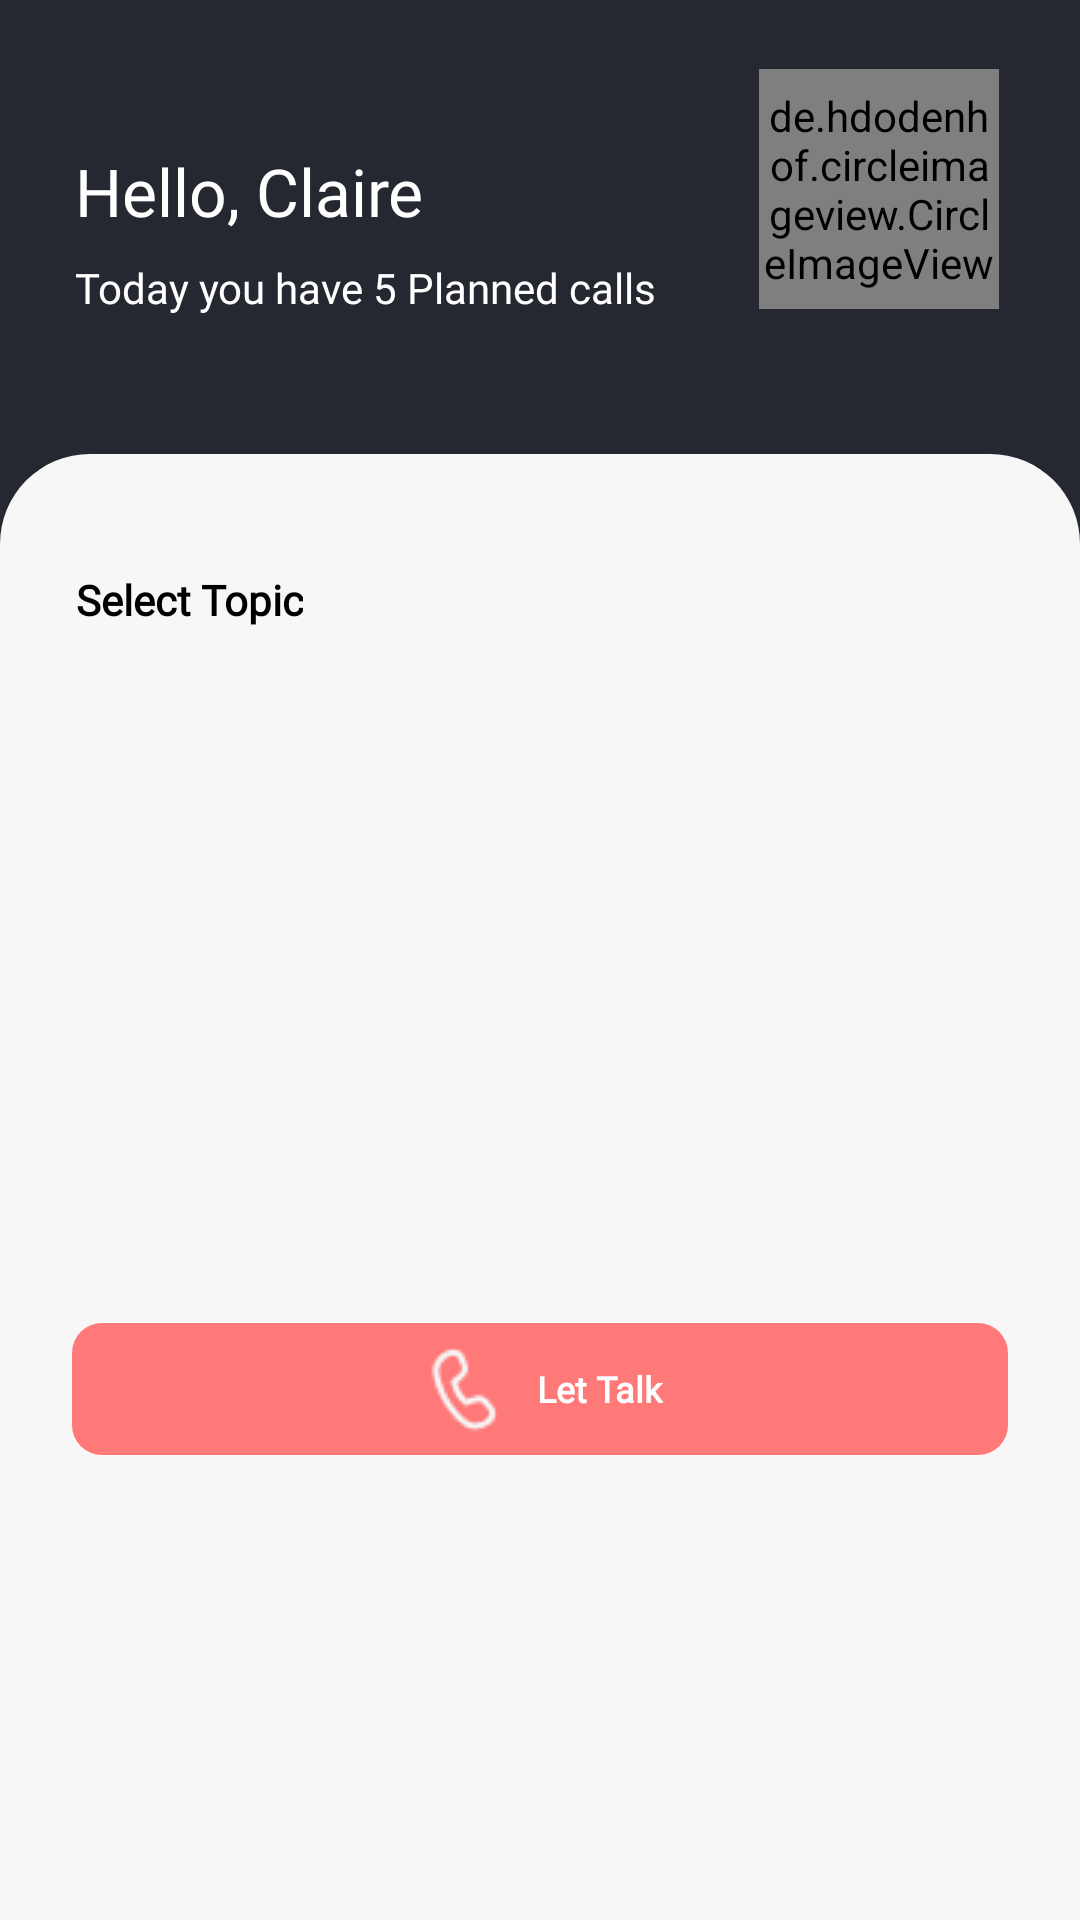

Named icons in this screenshot (1080×1920) and their centers, (x,y):
call: (463,1390)
